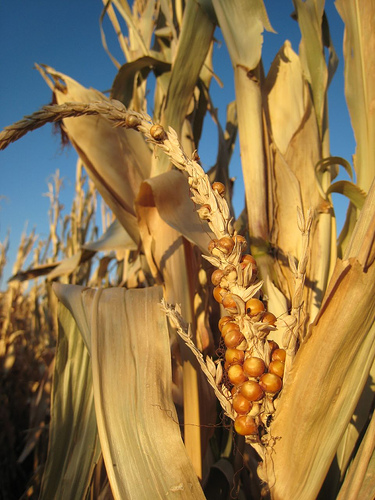corn: (118, 111, 306, 443)
